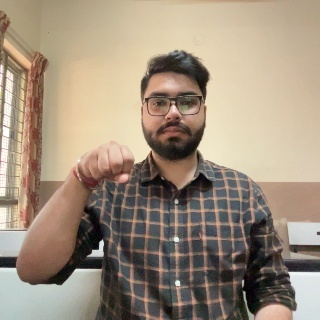Face: (143, 64, 205, 169)
Yes: (70, 137, 135, 212)
